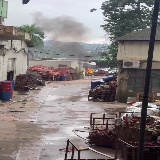fire: (88, 68, 94, 73)
